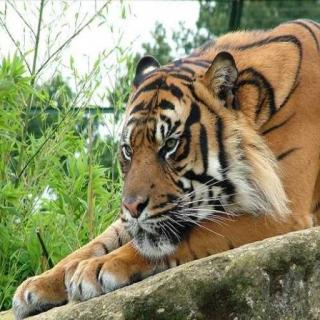Tiger: (8, 14, 320, 316)
